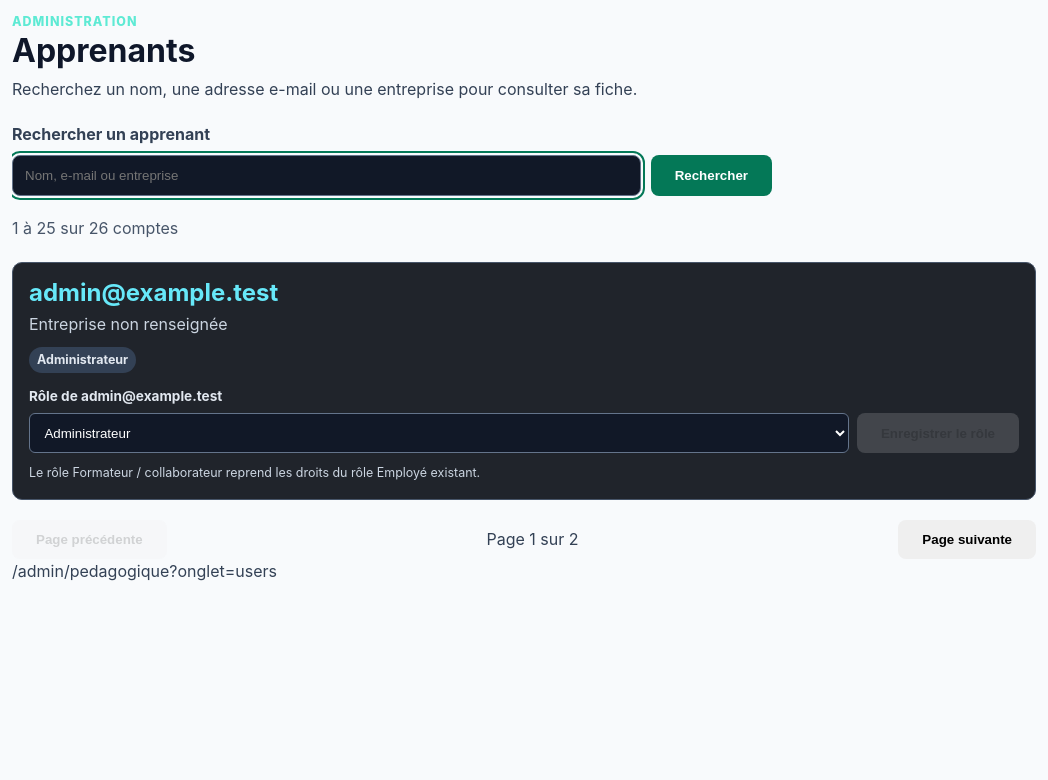
Test case: annuaire administrateur des apprenants › pagine au-delà de 25 comptes et conserve les rôles lisibles
Expected: the text "Administrateur" is shown, [29,347,136,373]
Click the button "Page suivante" at (967, 540), box [898,520,1036,559]
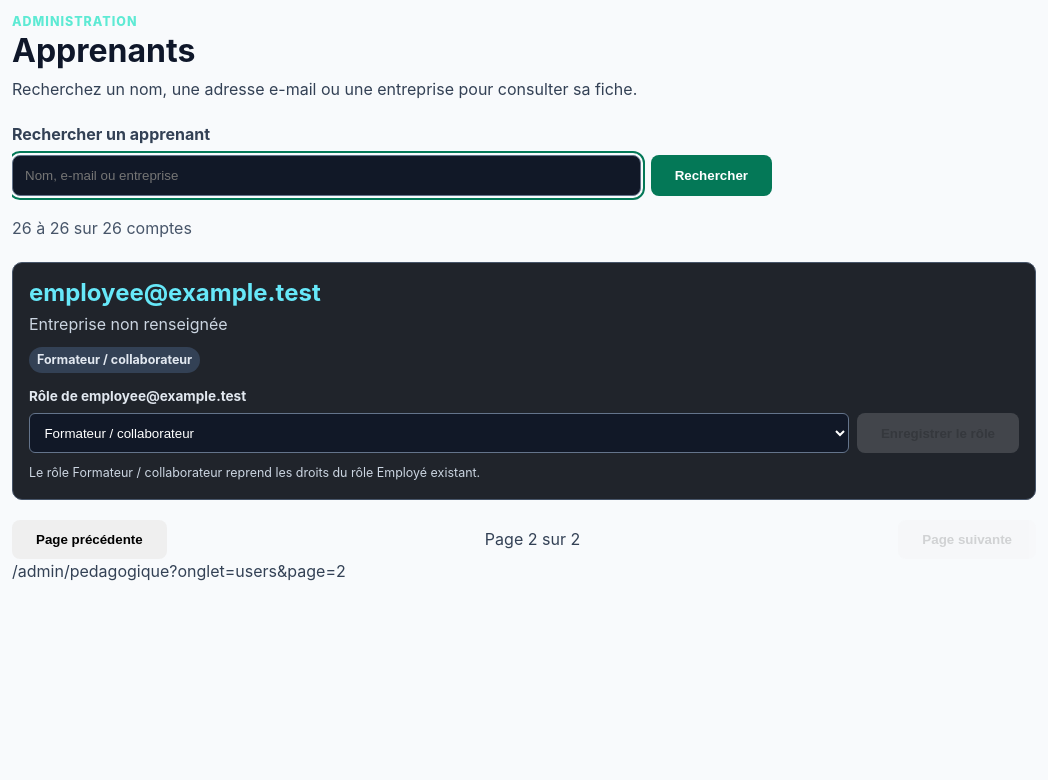
Now the text "Formateur / collaborateur" is shown, box [29,347,200,373]
Now the text with test id "location" shows "page=2", box [169,561,346,581]
